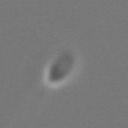normal: (1, 84, 47, 128)
